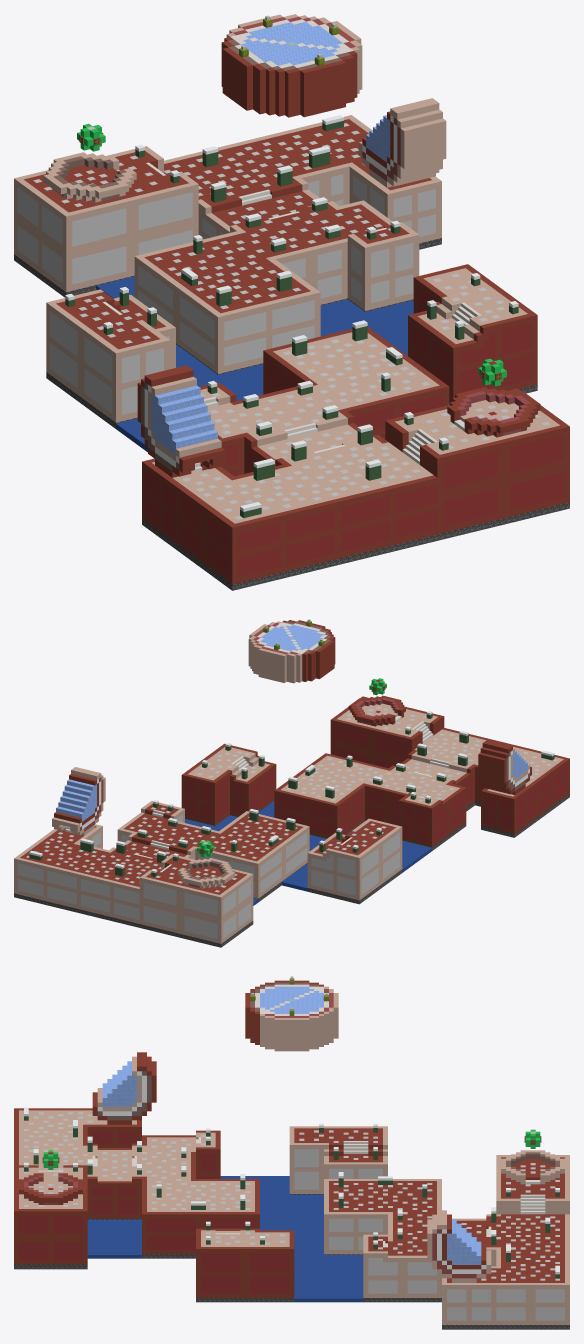
File: minecraft.obj
3 renders of one model, top to bottom at view 1: azimuth 30°, elevation 25°; view 2: azimuth 150°, elevation 25°; view 3: azimuth 270°, elevation 25°, orthographic. The views are drawn at different scales.
Bounding box in the file's own units: 85 × 55.5 × 113.
